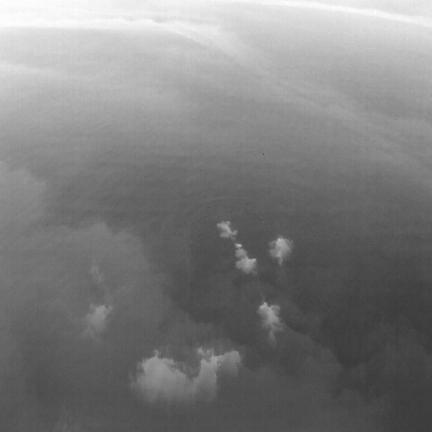flukeprints: (131, 350, 241, 405), (257, 301, 284, 344), (269, 236, 293, 265), (236, 245, 256, 273), (217, 221, 237, 240)
